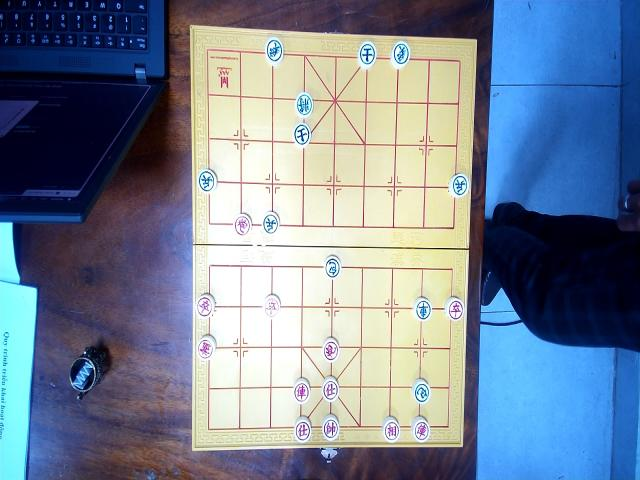piece: (264, 36, 284, 66), (447, 172, 469, 199), (390, 41, 410, 70), (357, 42, 377, 70), (411, 378, 431, 405), (196, 335, 216, 361), (412, 296, 432, 322), (381, 416, 400, 443), (411, 416, 430, 443), (294, 416, 312, 444), (197, 168, 217, 193), (444, 296, 464, 321), (322, 414, 340, 441), (322, 337, 340, 364), (196, 293, 214, 319), (293, 378, 311, 404), (321, 376, 339, 402), (294, 92, 312, 118), (293, 122, 311, 147), (324, 255, 342, 280), (262, 212, 280, 235), (264, 294, 280, 318), (234, 215, 251, 236)
